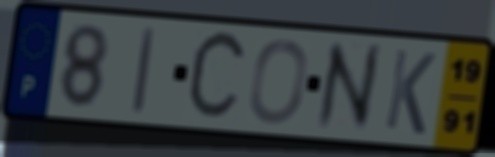8: (58, 22, 113, 110)
C: (183, 26, 251, 127)
I: (128, 24, 159, 118)
K: (381, 46, 439, 139)
N: (314, 39, 383, 133)
O: (245, 36, 311, 127)
